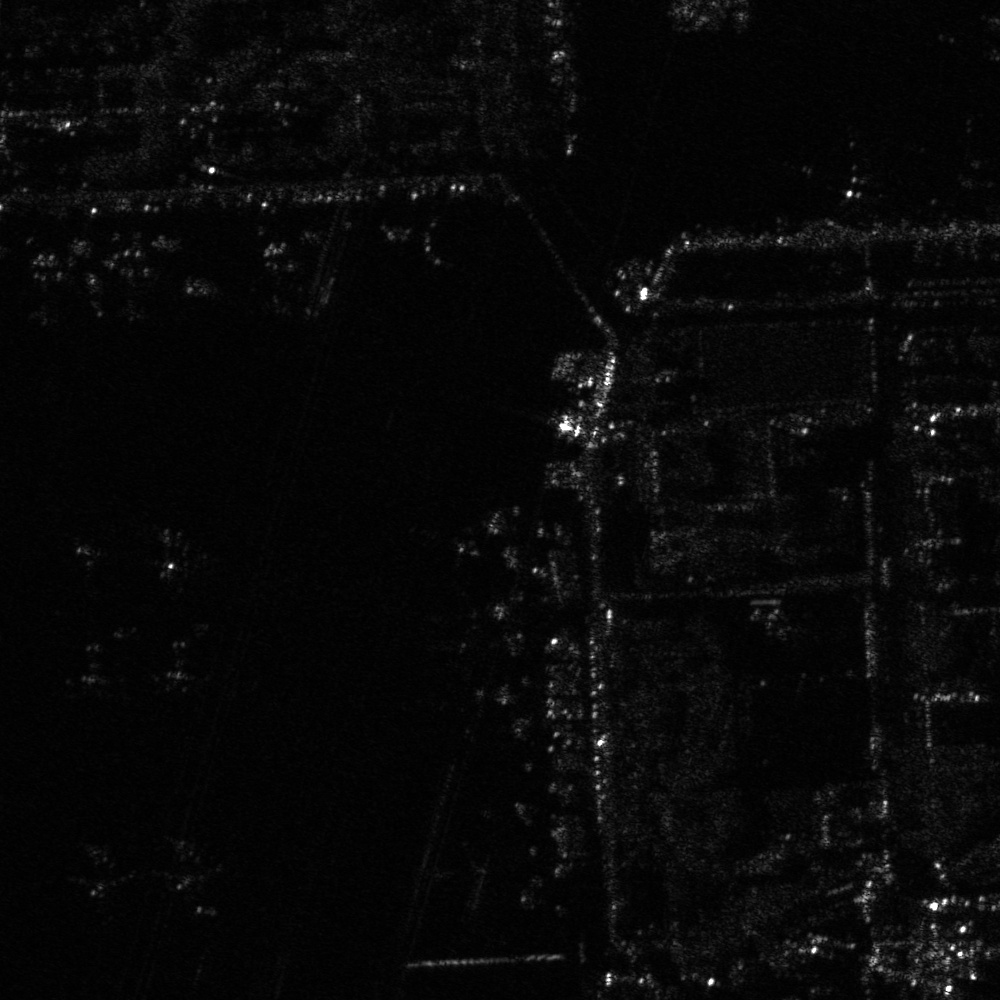A220: (150, 836, 230, 896), (55, 640, 129, 702)
ARJ21: (240, 240, 328, 324), (136, 637, 225, 699)
Boeing737: (9, 241, 85, 332)
other: (780, 121, 903, 213), (413, 668, 525, 742), (406, 586, 519, 659), (93, 235, 170, 328), (131, 515, 221, 593), (411, 835, 497, 916), (414, 513, 508, 577), (55, 527, 138, 597), (61, 839, 140, 899)
